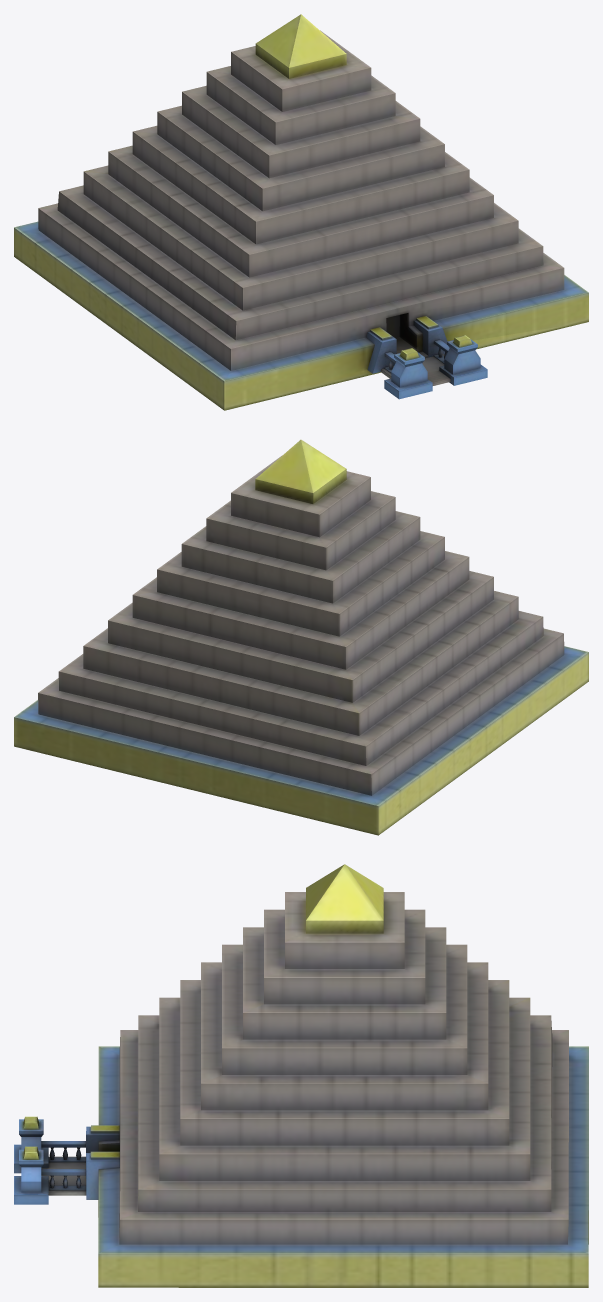
3 renders of one model, top to bottom at view 1: azimuth 30°, elevation 25°; view 2: azimuth 150°, elevation 25°; view 3: azimuth 270°, elevation 25°, orthographic. The views are drawn at different scales.
Visible parts, largest first — view 1: Cube.001; view 2: Cube.001; view 3: Cube.001.
Part boxes in pixels (bbox=[...]): Cube.001: bbox=[14, 14, 588, 410]; Cube.001: bbox=[14, 439, 588, 835]; Cube.001: bbox=[14, 864, 588, 1287].
Size of the model in its own units: 7.39 by 5.32 by 8.66.
1 material, 1 textured.
